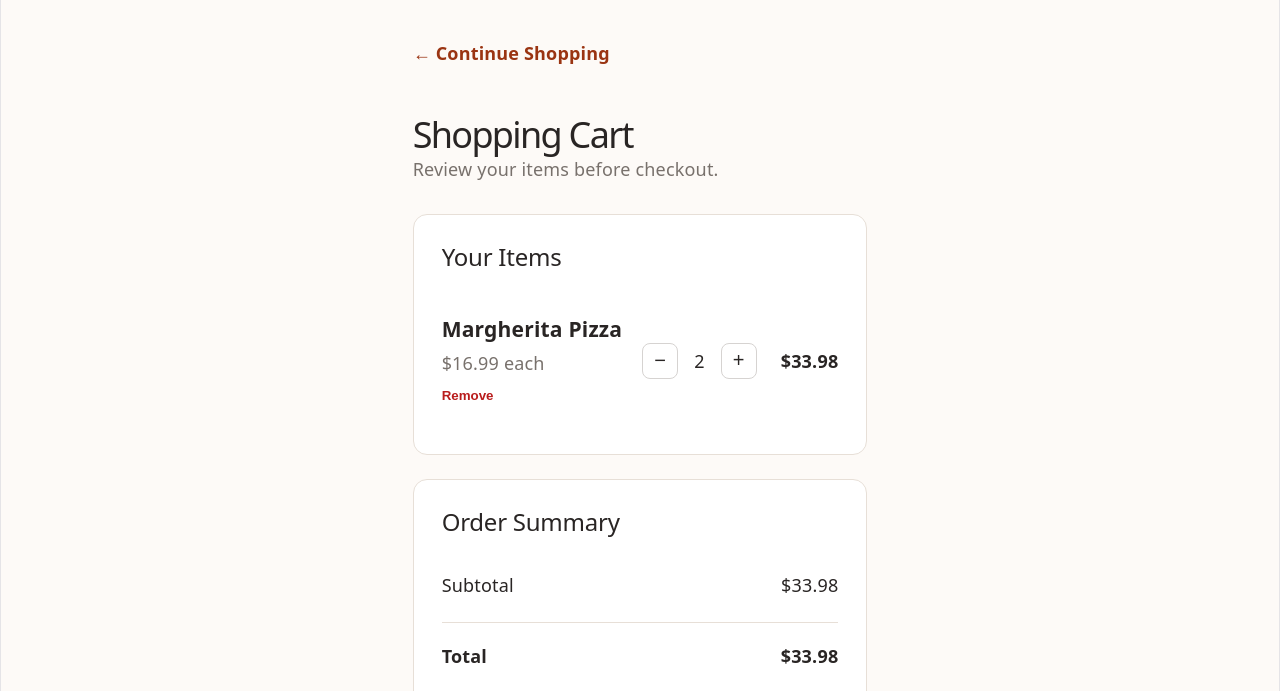
Test: Shopping Cart › preserves cart contents when an update fails
Expected: the heading "Margherita Pizza" is shown, [442,316,622,342]
Click the button named "Increase Margherita Pizza quantity": (739, 361) [721,343,757,379]
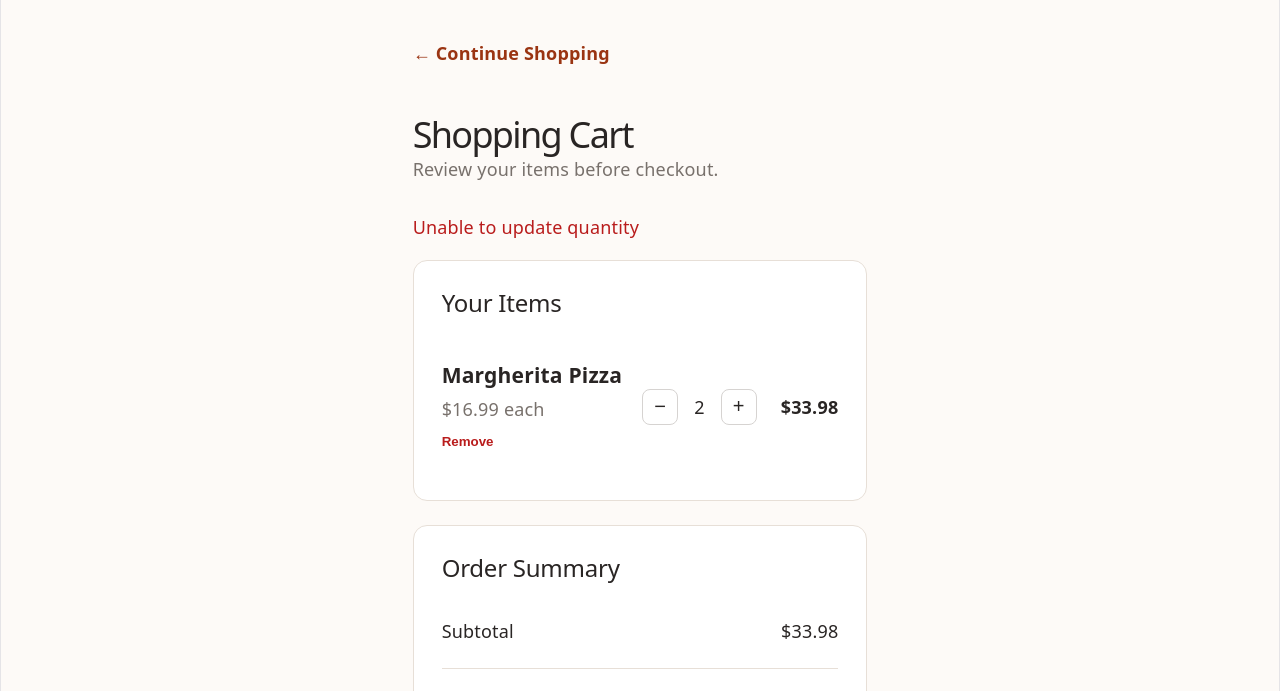
Expected: the heading "Margherita Pizza" is shown, [442,362,622,388]
Expected: the message reads "Unable to update quantity", [413,215,639,239]
